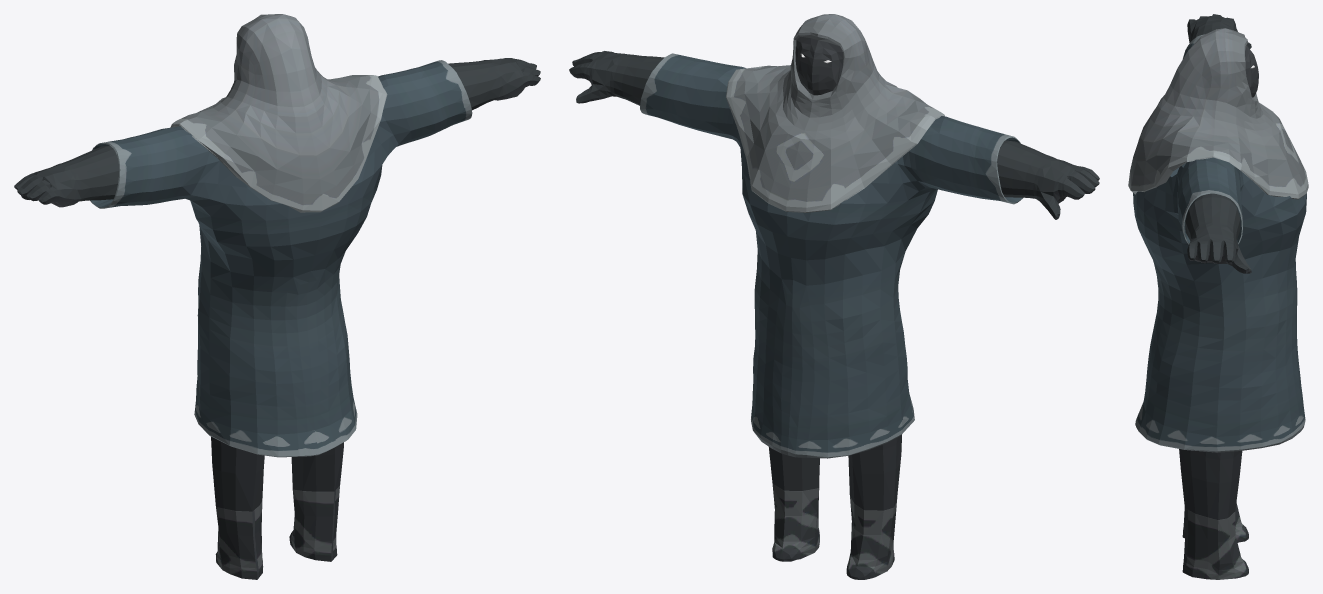
The model's file is CharSkyNPC_Body_StrongLabor.glb.
3 views of the same model, side by side, from view 1: azimuth 30°, elevation 25°; view 2: azimuth 150°, elevation 25°; view 3: azimuth 270°, elevation 25° (orthographic). The views are drawn at different scales.
Visible parts, largest first — view 1: CharSkyNPC_Body_StrongLabor; view 2: CharSkyNPC_Body_StrongLabor; view 3: CharSkyNPC_Body_StrongLabor.
Boxes of the visible parts, x1,y1,x2,y2 form: CharSkyNPC_Body_StrongLabor: (14, 14, 540, 579); CharSkyNPC_Body_StrongLabor: (569, 14, 1099, 579); CharSkyNPC_Body_StrongLabor: (1128, 14, 1308, 579).
Bounding box in the file's own units: 14.05 × 13.99 × 4.37.
1 material, 1 textured.
